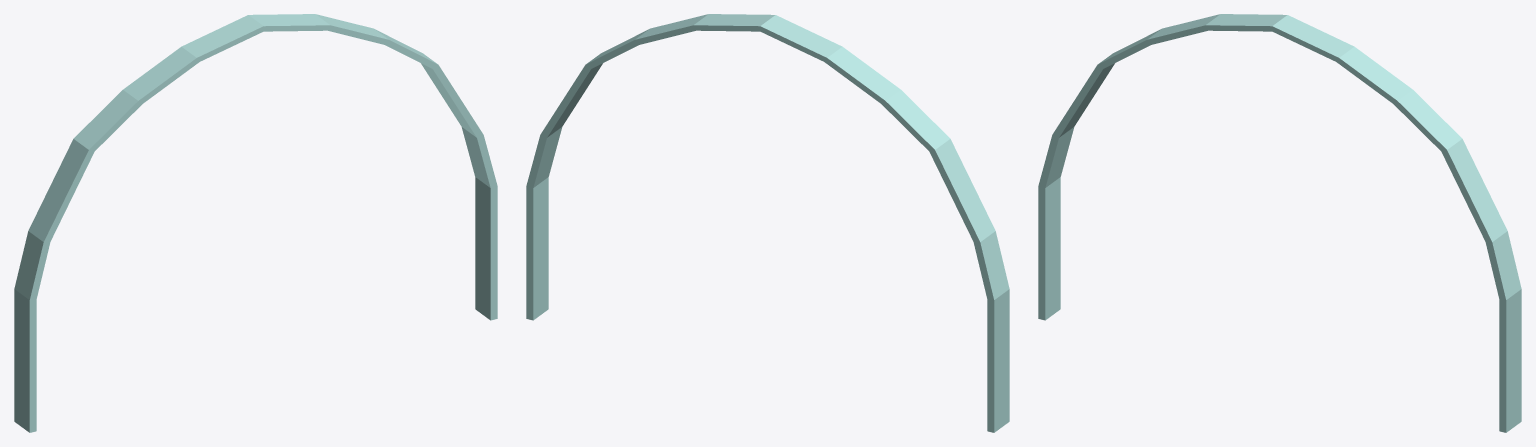
The model's file is ParkDoor.fbx.
3 renders of one model, left to right at view 1: azimuth 30°, elevation 25°; view 2: azimuth 150°, elevation 25°; view 3: azimuth 330°, elevation 25°, orthographic.
Parts seen in each view (by area): view 1: ParkDoor; view 2: ParkDoor; view 3: ParkDoor.
Boxes of the visible parts, x1,y1,x2,y2 form: ParkDoor: [14, 14, 497, 432]; ParkDoor: [526, 14, 1009, 432]; ParkDoor: [1038, 14, 1521, 432].
Bounding box in the file's own units: 350 × 250 × 20.
